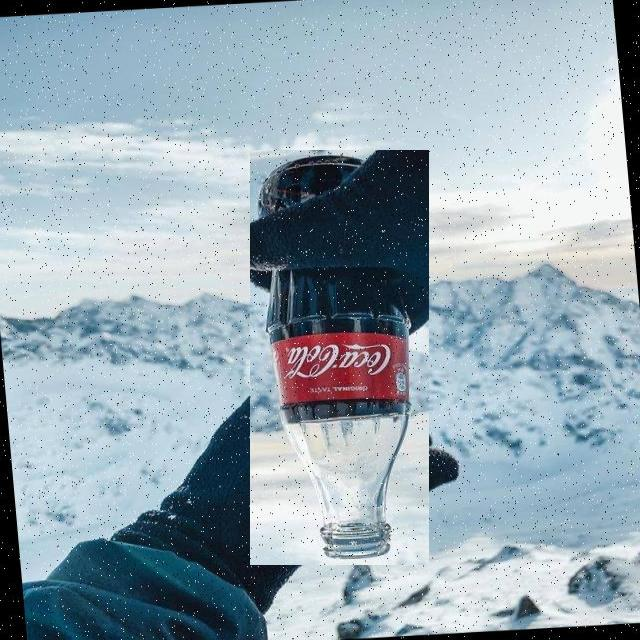coca-cola: (250, 150, 429, 565)
